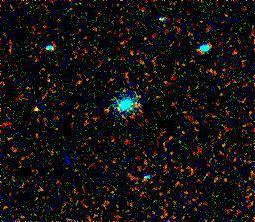star: (19, 95, 49, 125)
